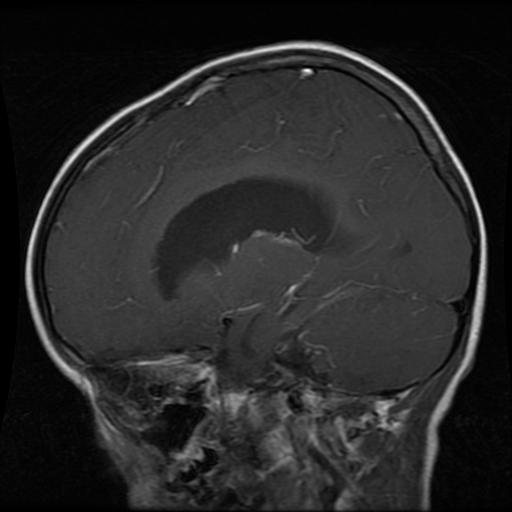Gliomia_tumour: (156, 173, 355, 303)
